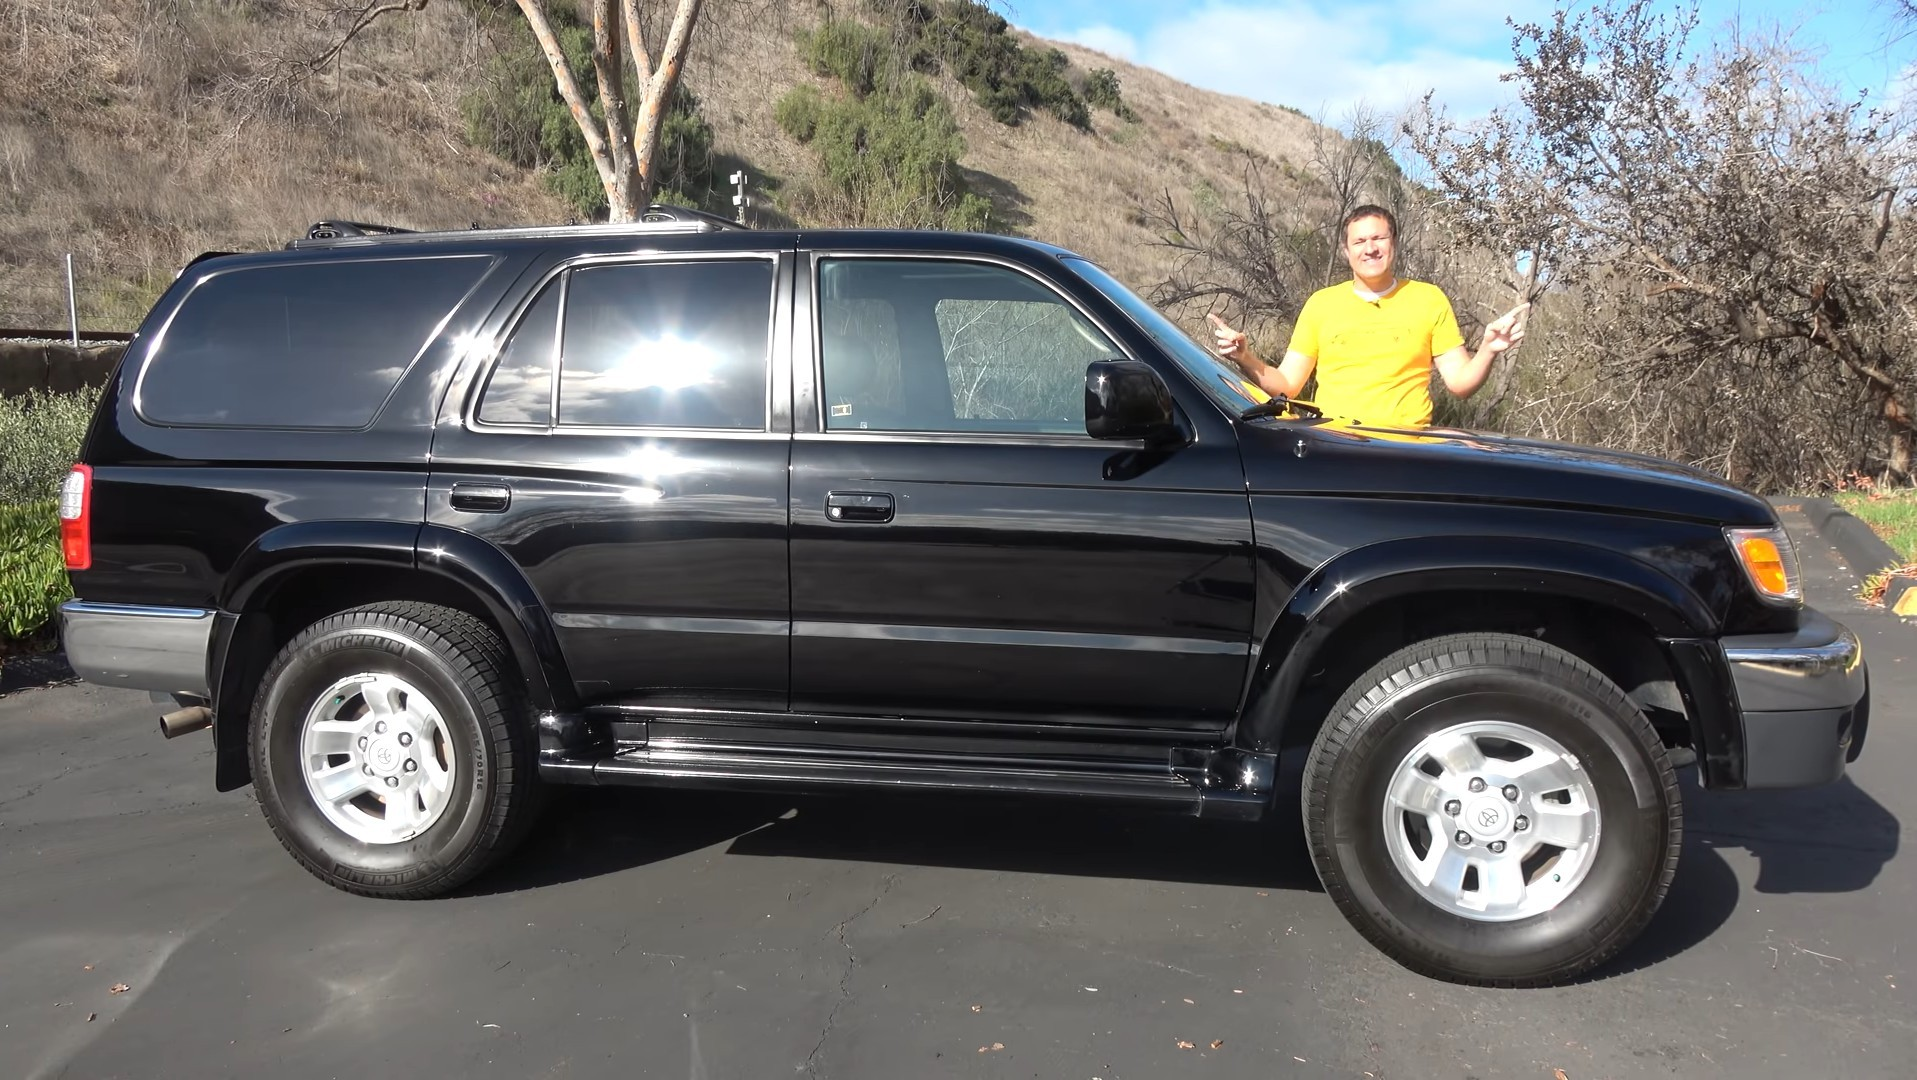car: (49, 208, 1875, 989)
person: (1210, 174, 1539, 489)
